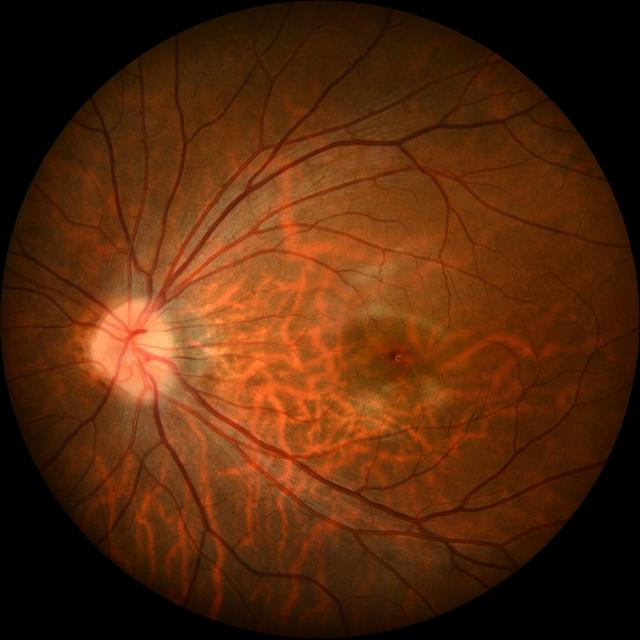OC: (128, 330, 152, 358)
OD: (98, 302, 174, 395)
